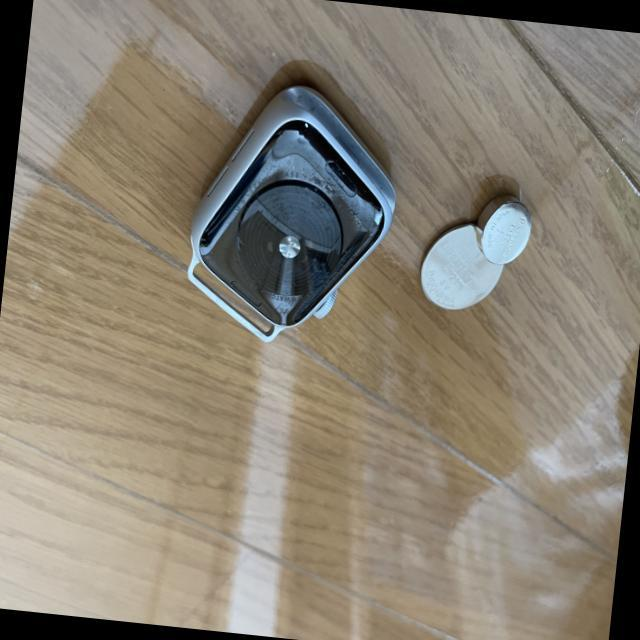COIN: (415, 218, 507, 312), (472, 192, 533, 264)
